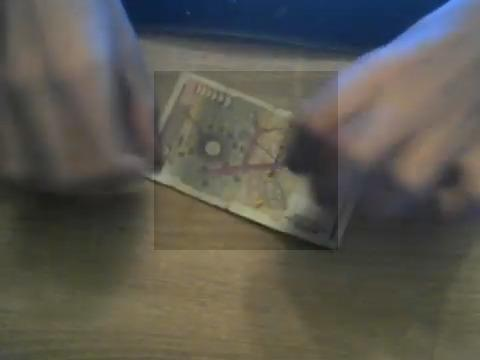10leva: (154, 71, 338, 250)
